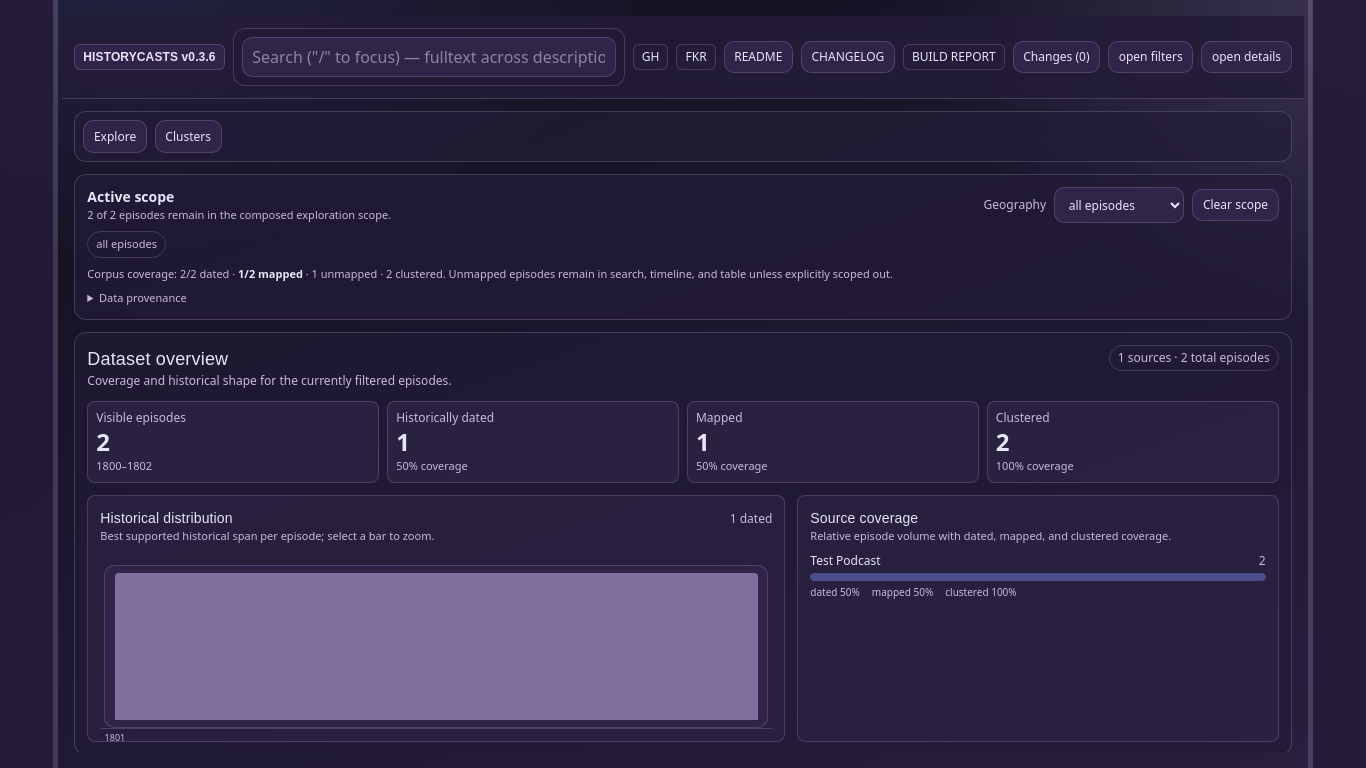
Test case: App integration › starts with side panels collapsed on mobile viewports
Click the button "open details": click(1247, 57) [1201,41,1292,73]
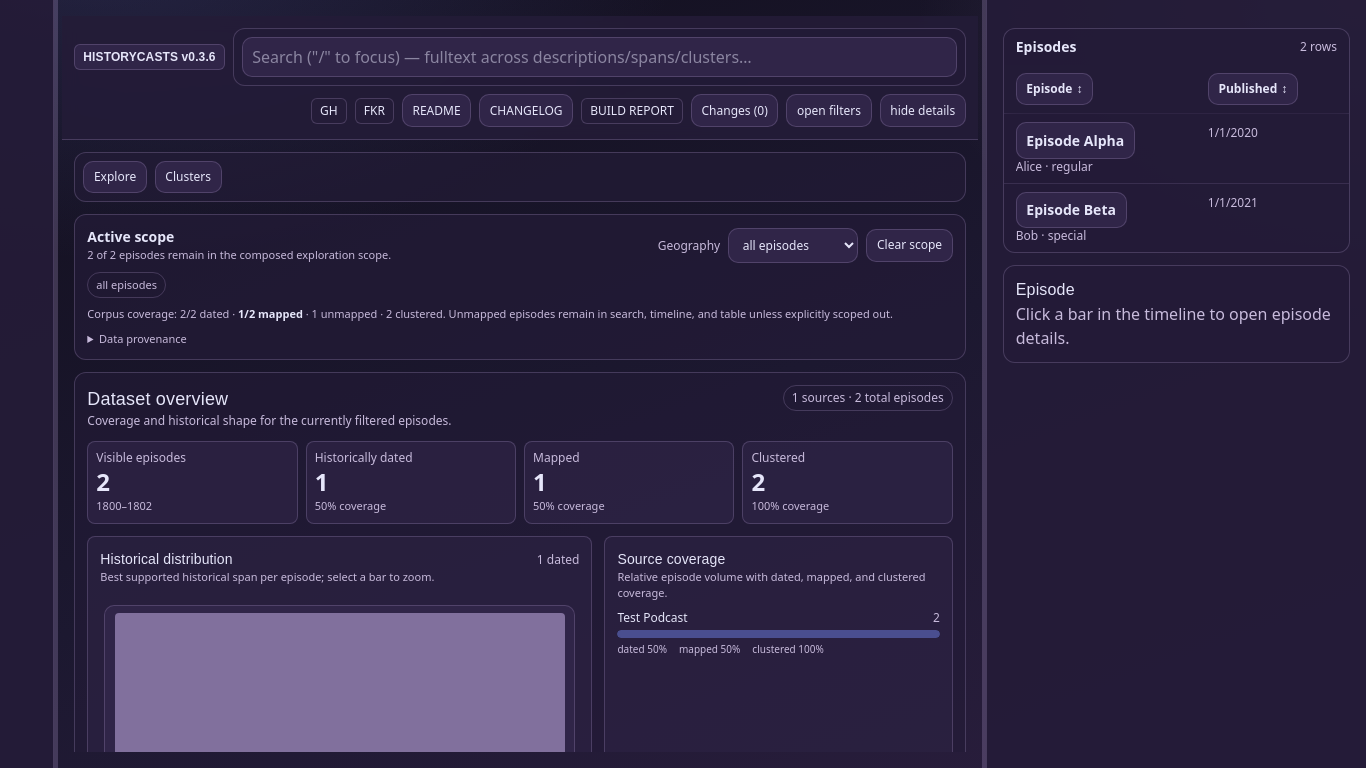
Expected: the heading "HISTORYCASTS v0.3.6" is shown, [74,44,225,70]
Expected: the button "hide details" is expanded, [880,94,966,127]
